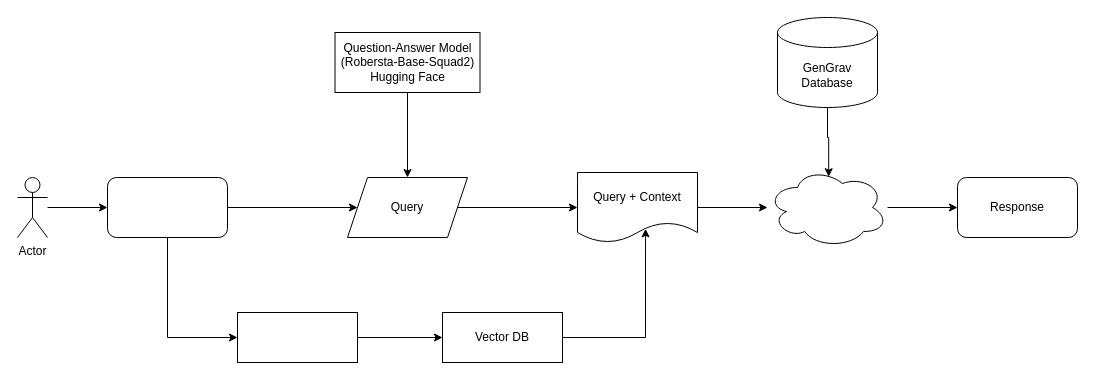
The diagram is 1095 pixels wide and 380 high, and some of its shapes have lost their labels. Each missing label, with the centre of its shape:
"Embedding" goes at (297,337).
"LLM" goes at (827,207).
"User Input (Chat Text/Speech)" goes at (167,207).
